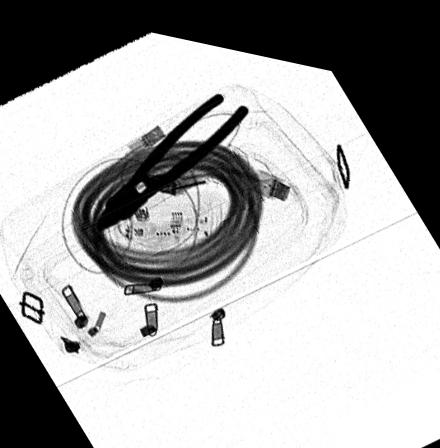Pliers: (91, 80, 254, 230)
